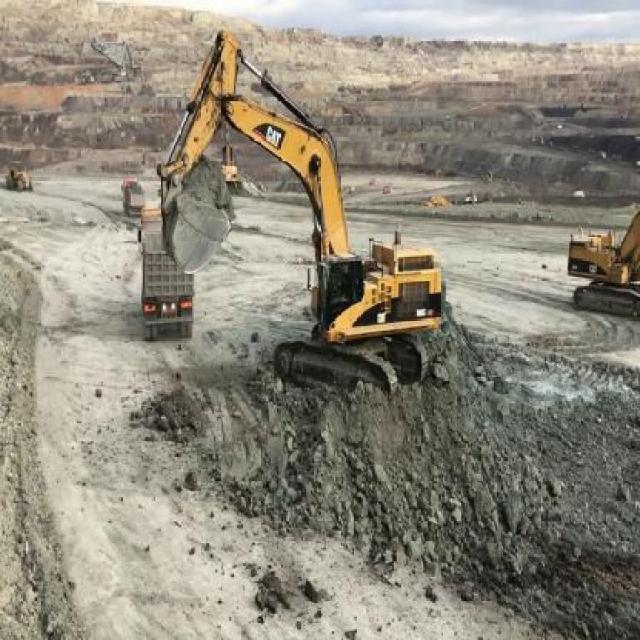dump_truck: (136, 213, 192, 345), (121, 182, 144, 212)
excavator: (159, 30, 443, 390), (564, 188, 639, 318), (222, 123, 238, 194)
